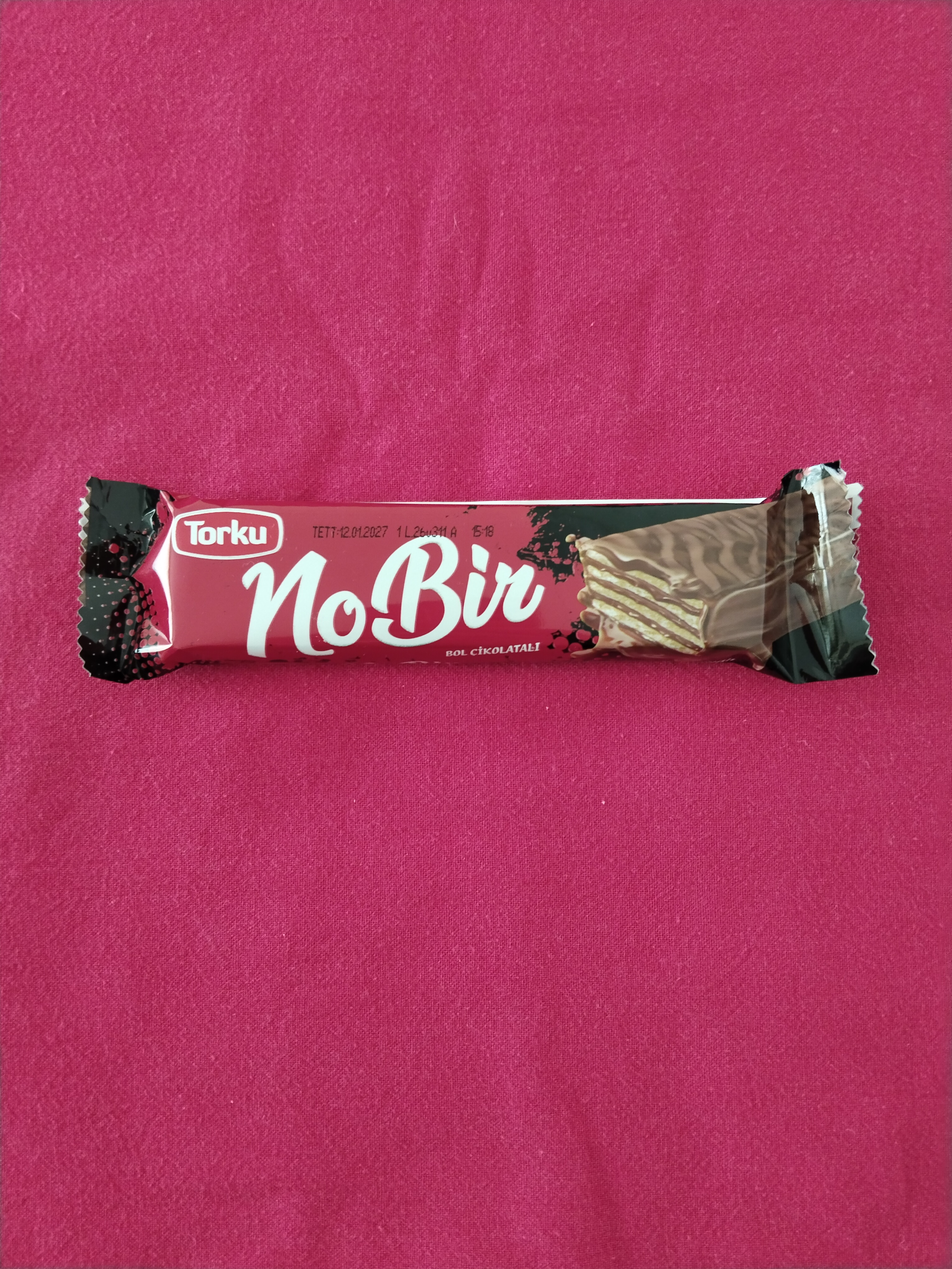torku_nobir_gofret: (79, 464, 876, 683)
